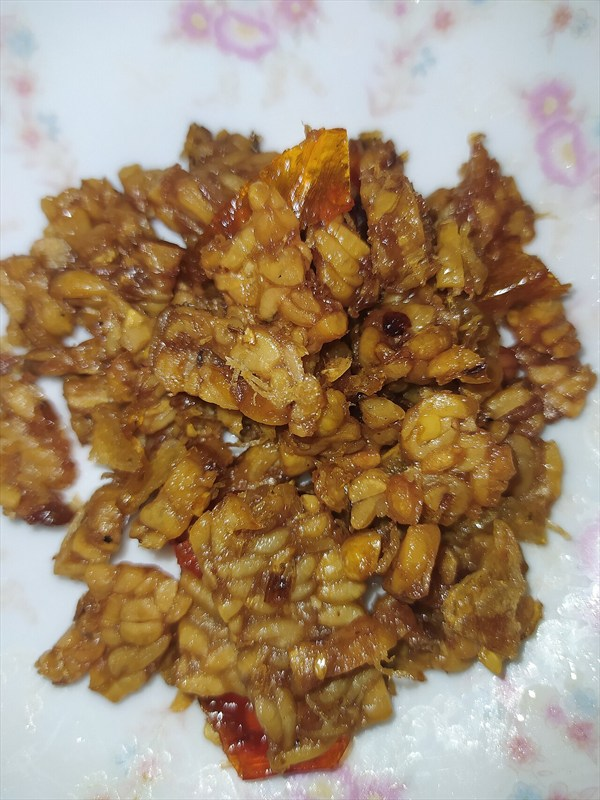Tempe Goreng: (91, 152, 524, 701)
